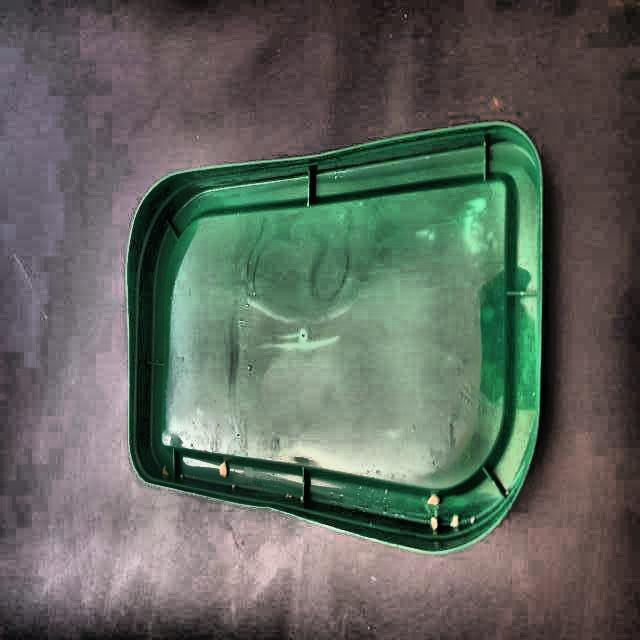plastic: (126, 124, 542, 551)
